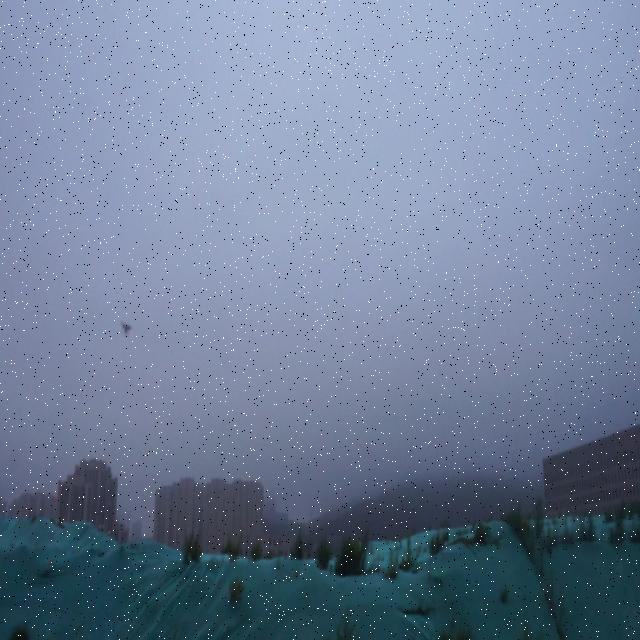UAV: (120, 321, 133, 334)
